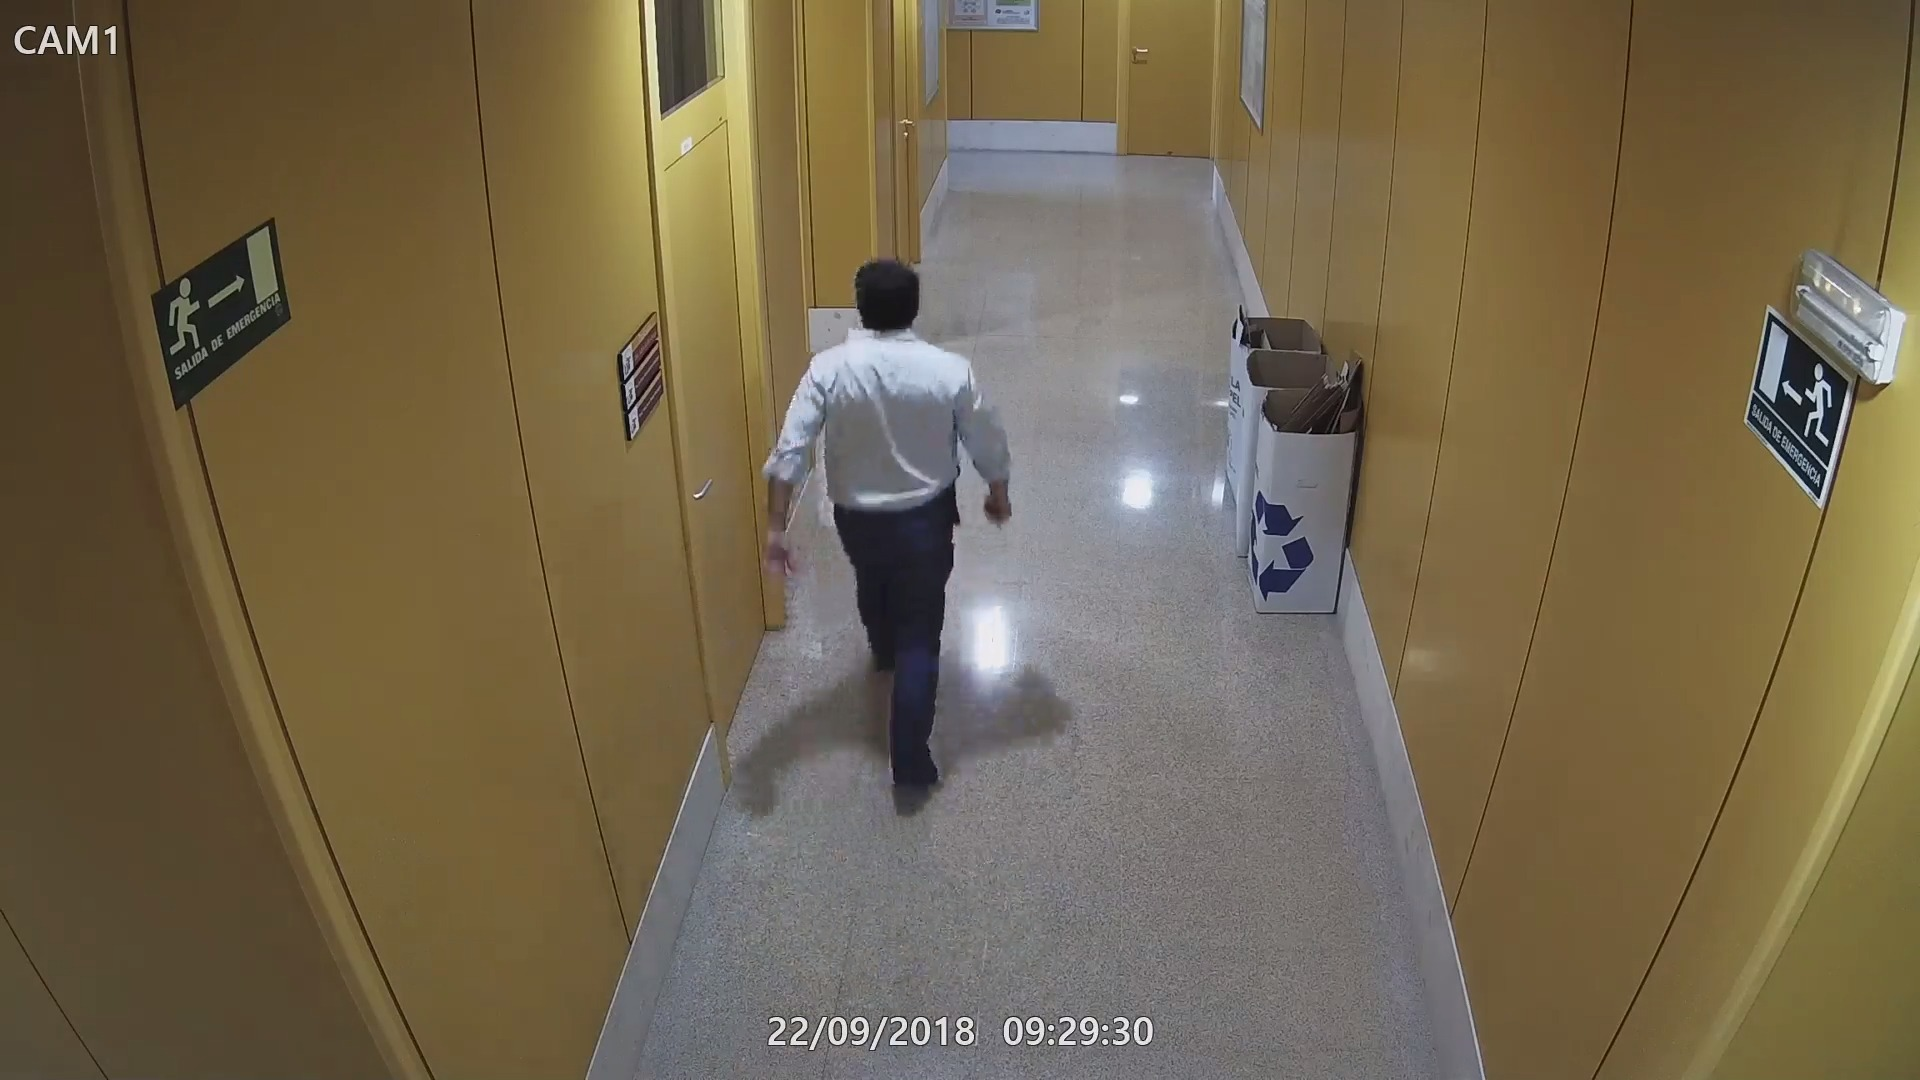Handgun: (978, 491, 1014, 527)
